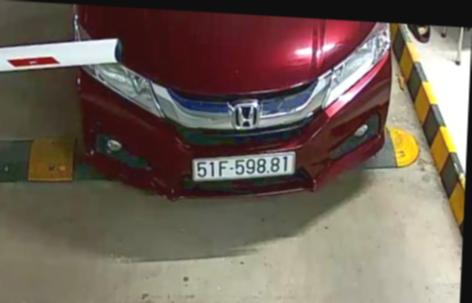License_Plate: (187, 146, 299, 187)
